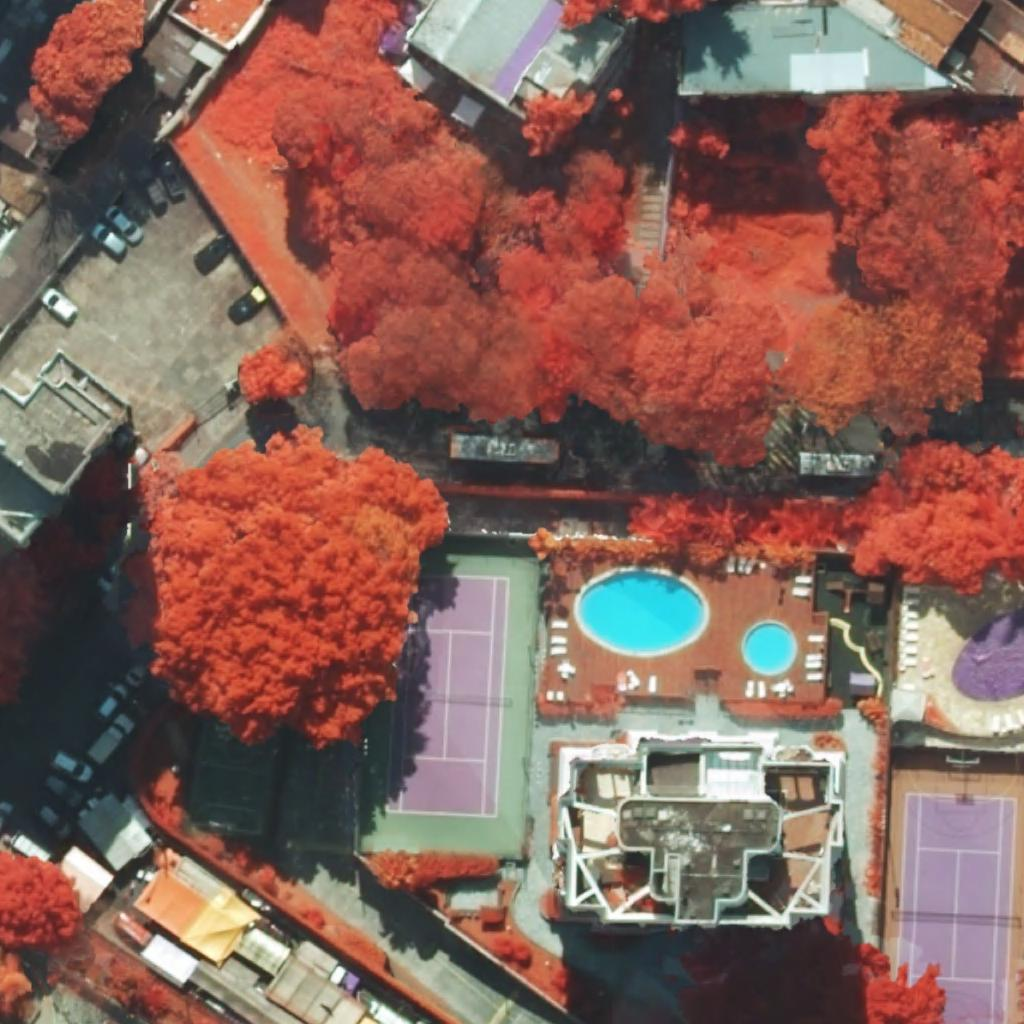pool: (578, 571, 705, 654), (951, 608, 1024, 702), (744, 623, 794, 672)
